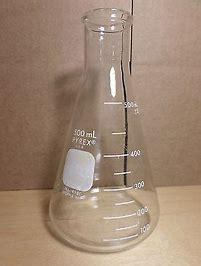Titrarion: (41, 12, 165, 251)
